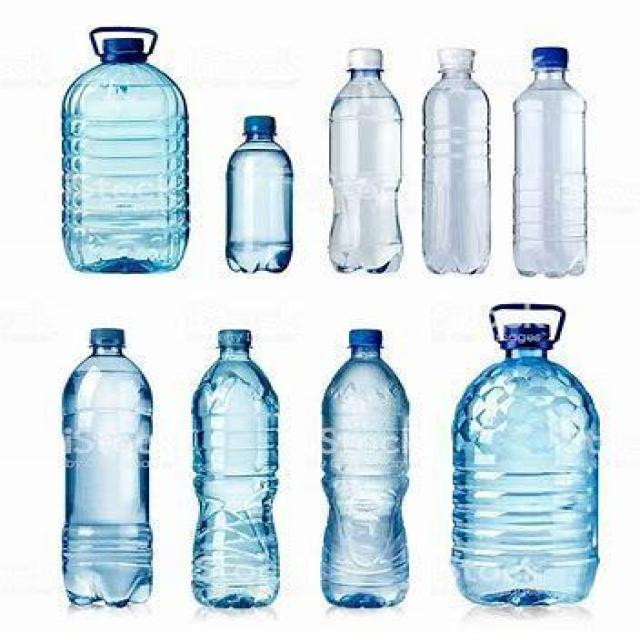bottle: (446, 295, 606, 610), (49, 17, 194, 284), (60, 327, 158, 609), (321, 322, 412, 611), (190, 322, 279, 614), (512, 44, 590, 279), (330, 45, 405, 277), (223, 112, 297, 276), (436, 46, 478, 277)
